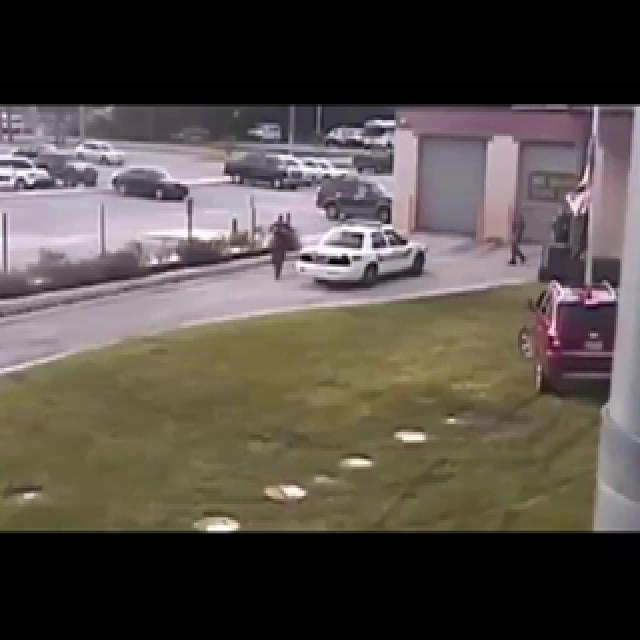arrest: (182, 159, 569, 432)
